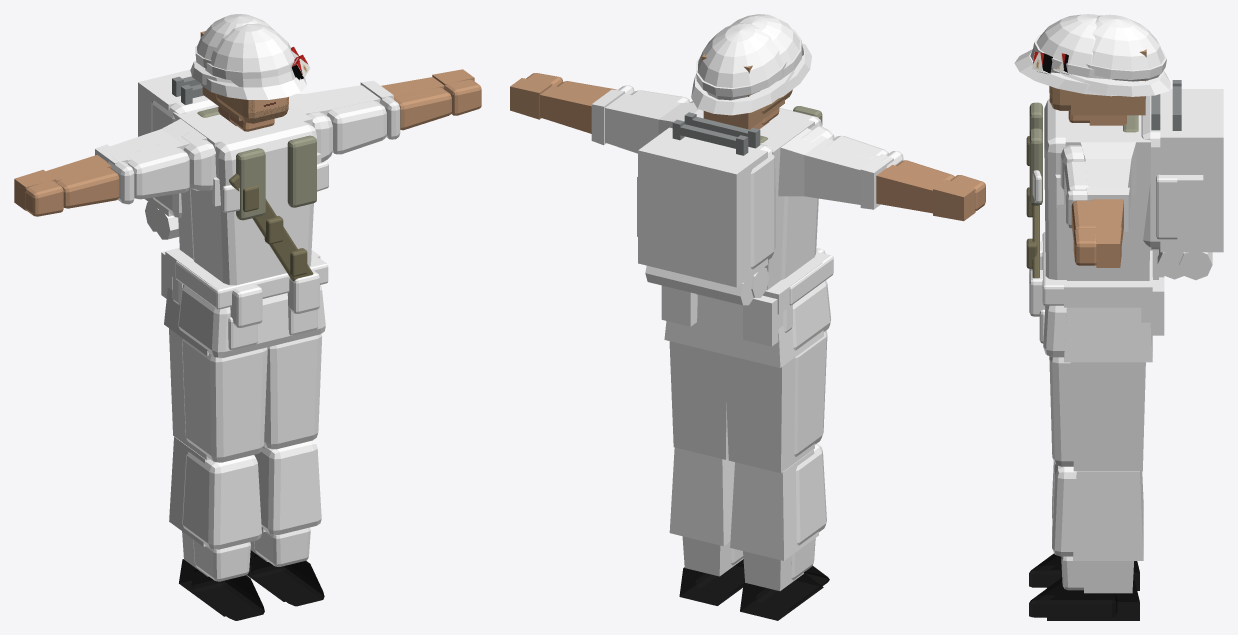
The model's file is unit_us_grunt_T_pose_blank.glb.
The picture shows the model from 3 angles, left to right: view 1: azimuth 30°, elevation 25°; view 2: azimuth 150°, elevation 25°; view 3: azimuth 270°, elevation 25°; orthographic projection. The views are drawn at different scales.
Visible parts, largest first — view 1: US_Grunt, ruck_bag, jacket_body, r_thigh, r_shin, r_bootfoot, m1_helmet, l_uparm, r_uparm, r_loarm, jacket_hem, l_loarm (+1 smaller); view 2: US_Grunt, ruck_bag, r_thigh, l_thigh, r_shin, l_shin, jacket_hem, m1_helmet, r_uparm, l_uparm, jacket_body, r_loarm (+18 smaller); view 3: US_Grunt, l_thigh, ruck_bag, l_shin, jacket_body, jacket_hem, m1_helmet, belt, l_bootfoot, etool, l_bootshaft, head (+10 smaller).
Part boxes in pixels (left/top/right/bottom): US_Grunt: left=25, top=23, right=481, bottom=620; ruck_bag: left=138, top=69, right=203, bottom=216; jacket_body: left=173, top=102, right=312, bottom=258; r_thigh: left=169, top=328, right=209, bottom=459; r_shin: left=169, top=436, right=206, bottom=546; r_bootfoot: left=179, top=559, right=246, bottom=616; m1_helmet: left=197, top=14, right=274, bottom=59; l_uparm: left=305, top=85, right=380, bottom=112; r_uparm: left=110, top=129, right=183, bottom=161; r_loarm: left=46, top=155, right=111, bottom=181; jacket_hem: left=164, top=285, right=208, bottom=355; l_loarm: left=381, top=77, right=444, bottom=97; US_Grunt: left=526, top=14, right=985, bottom=609; ruck_bag: left=638, top=127, right=767, bottom=287; r_thigh: left=726, top=355, right=815, bottom=473; l_thigh: left=669, top=341, right=728, bottom=459; r_shin: left=730, top=449, right=818, bottom=560; l_shin: left=669, top=447, right=734, bottom=546; jacket_hem: left=664, top=286, right=824, bottom=367; m1_helmet: left=697, top=22, right=783, bottom=100; r_uparm: left=804, top=138, right=878, bottom=204; l_uparm: left=605, top=94, right=680, bottom=153; jacket_body: left=683, top=109, right=814, bottom=290; r_loarm: left=876, top=164, right=943, bottom=213; US_Grunt: left=1014, top=14, right=1191, bottom=617; l_thigh: left=1070, top=362, right=1145, bottom=471; ruck_bag: left=1160, top=89, right=1223, bottom=252; l_shin: left=1073, top=471, right=1143, bottom=560; jacket_body: left=1065, top=112, right=1150, bottom=280; jacket_hem: left=1064, top=307, right=1152, bottom=362; m1_helmet: left=1091, top=14, right=1164, bottom=81; belt: left=1064, top=250, right=1152, bottom=307; l_bootfoot: left=1047, top=575, right=1139, bottom=620; etool: left=1177, top=175, right=1203, bottom=240; l_bootshaft: left=1082, top=561, right=1133, bottom=593; head: left=1070, top=49, right=1146, bottom=115.
Size of the model in its own units: 1.43 by 1.71 by 0.5627.
Materials: 13 (2 with a texture image).
